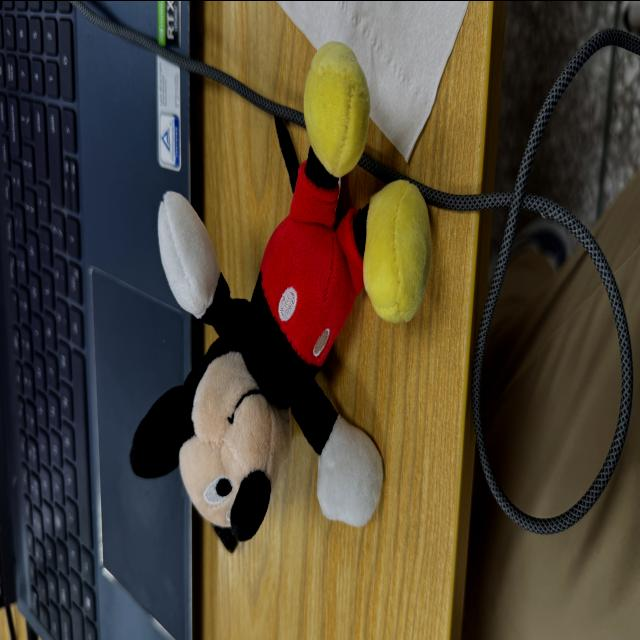mickey: (131, 42, 430, 546)
